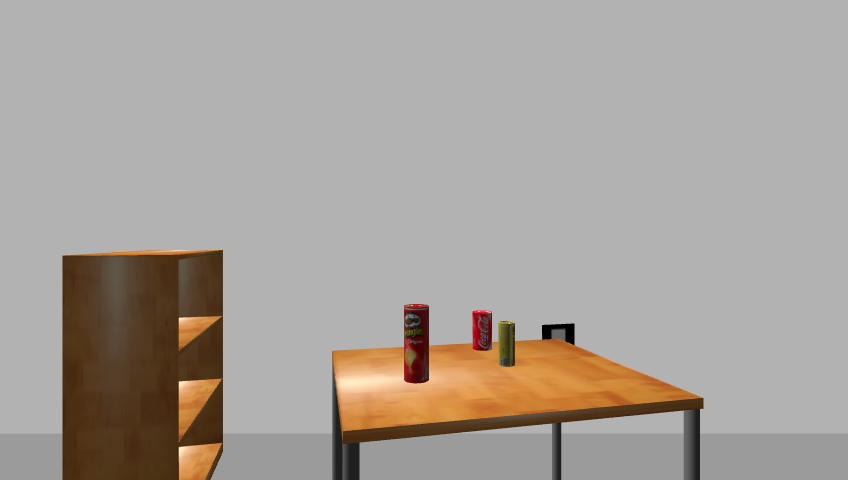aruco marker: (538, 322, 578, 349)
biscuits pack: (498, 321, 517, 368)
bookshelf: (57, 247, 232, 479)
coke can: (470, 309, 494, 352)
dinner table: (323, 340, 711, 480)
pringles can: (402, 303, 431, 386)
